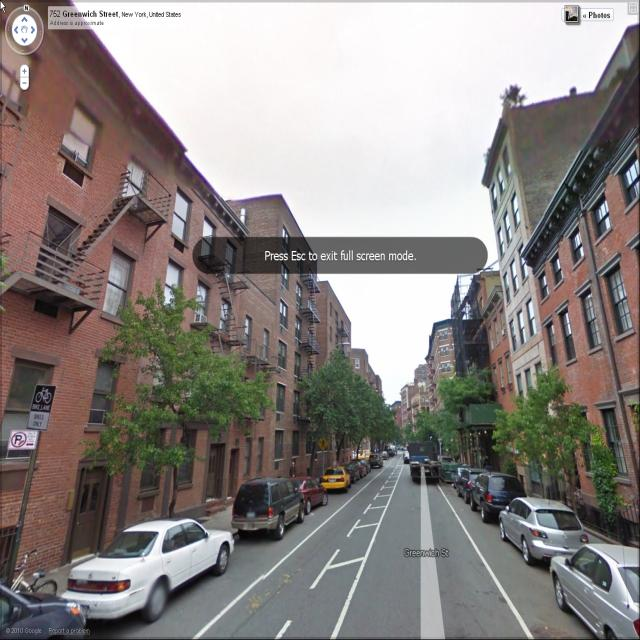b_1: (543, 82, 640, 418), (477, 122, 556, 421), (246, 187, 319, 371)
b_2: (0, 4, 172, 577), (165, 140, 247, 504), (245, 173, 318, 484), (423, 328, 488, 454), (315, 286, 355, 464), (354, 338, 393, 454)
